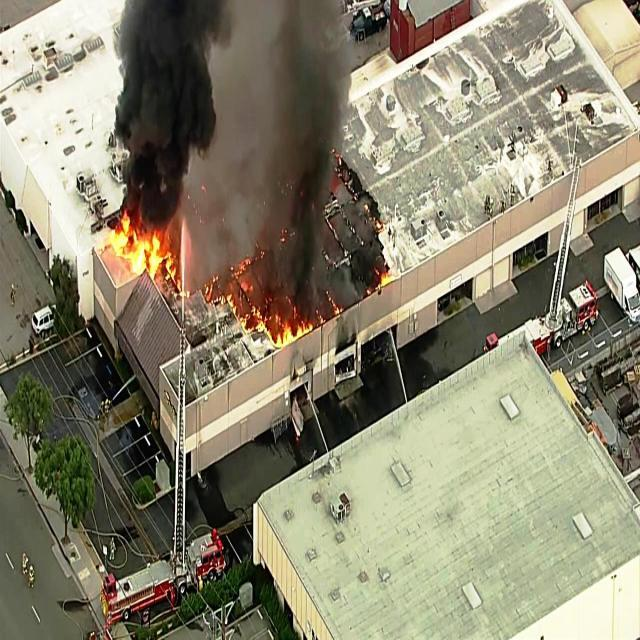Fire: (104, 200, 180, 266)
Smoke: (241, 0, 321, 303), (132, 2, 182, 204)
